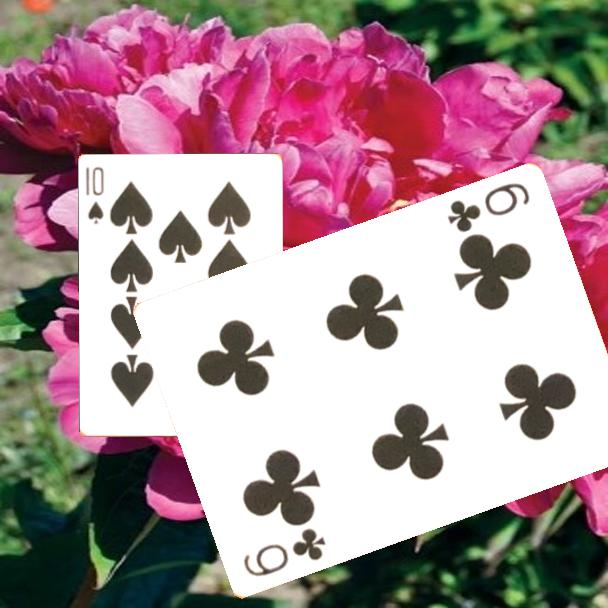c06: (443, 179, 533, 236), (239, 524, 328, 580)
s10: (83, 164, 107, 227)
